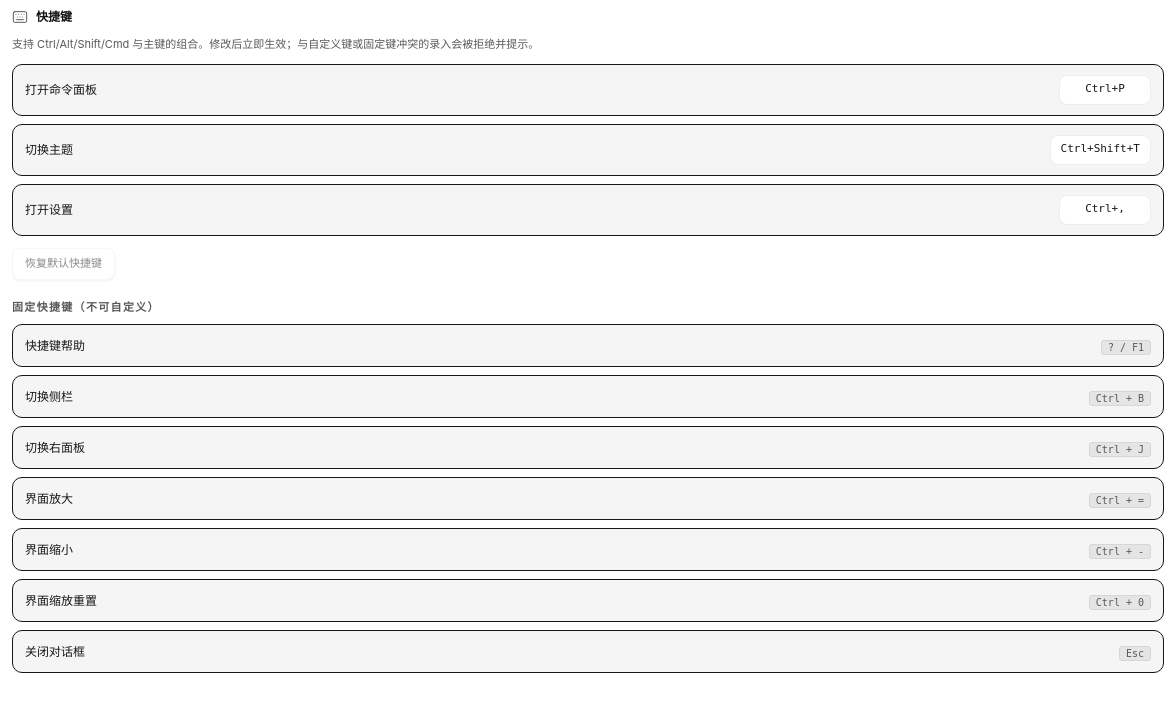
ShortcutsSection › 无冲突录入 → 写穿透（对照组）
The image size is (1164, 720).
Click the button "Ctrl+P".
click(1105, 90)  # box [1059,75,1151,105]
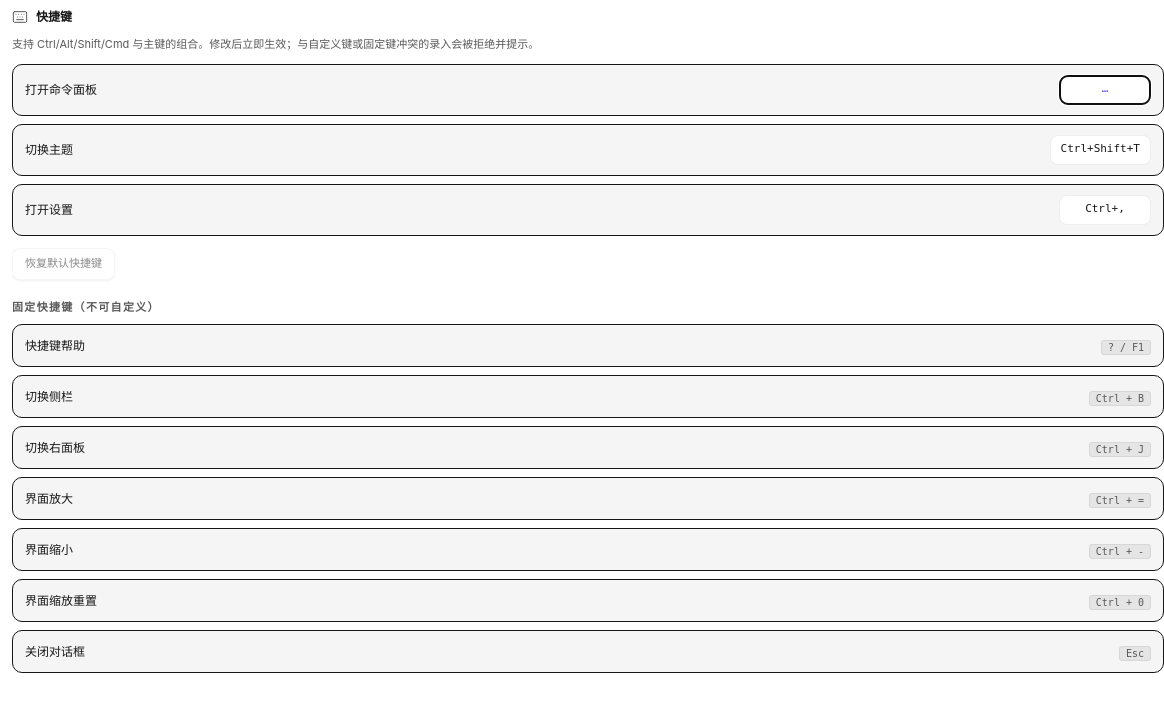
Press e
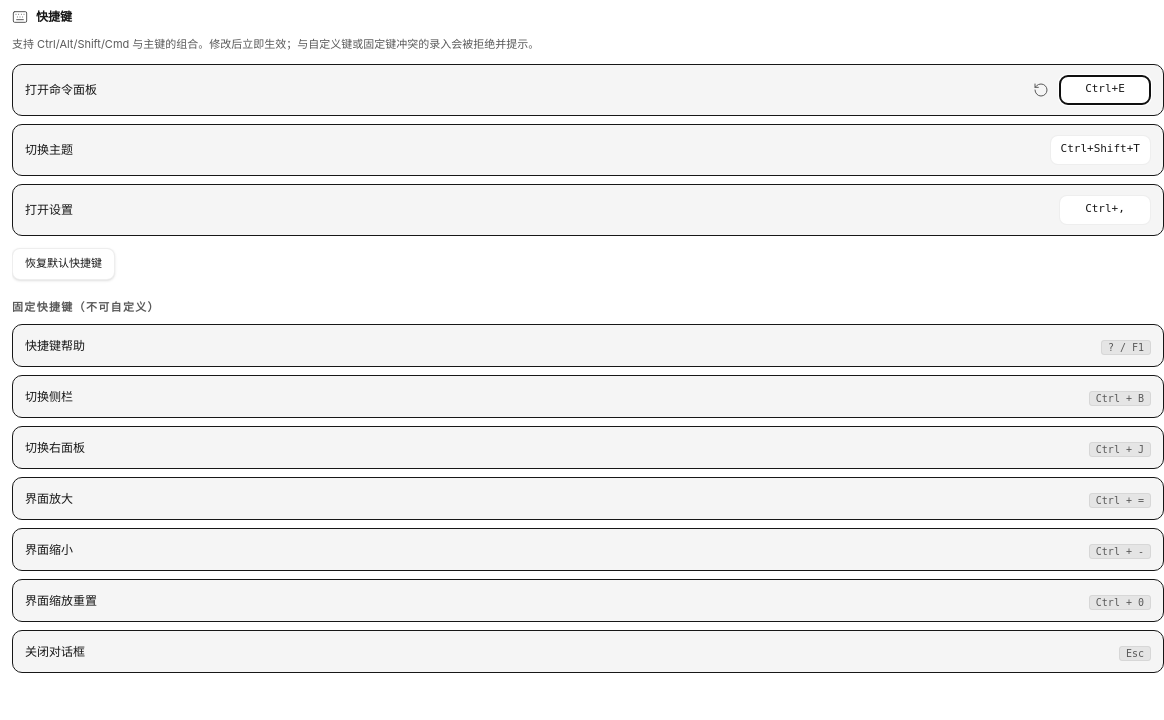
Expected: the button named "Ctrl+P" reads "Ctrl+E", [1059,75,1151,105]
